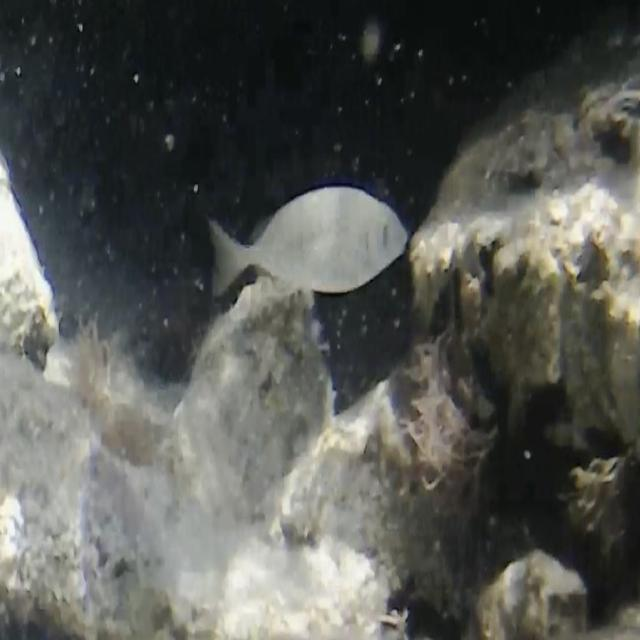Sokar Baligi: (200, 176, 416, 311)
